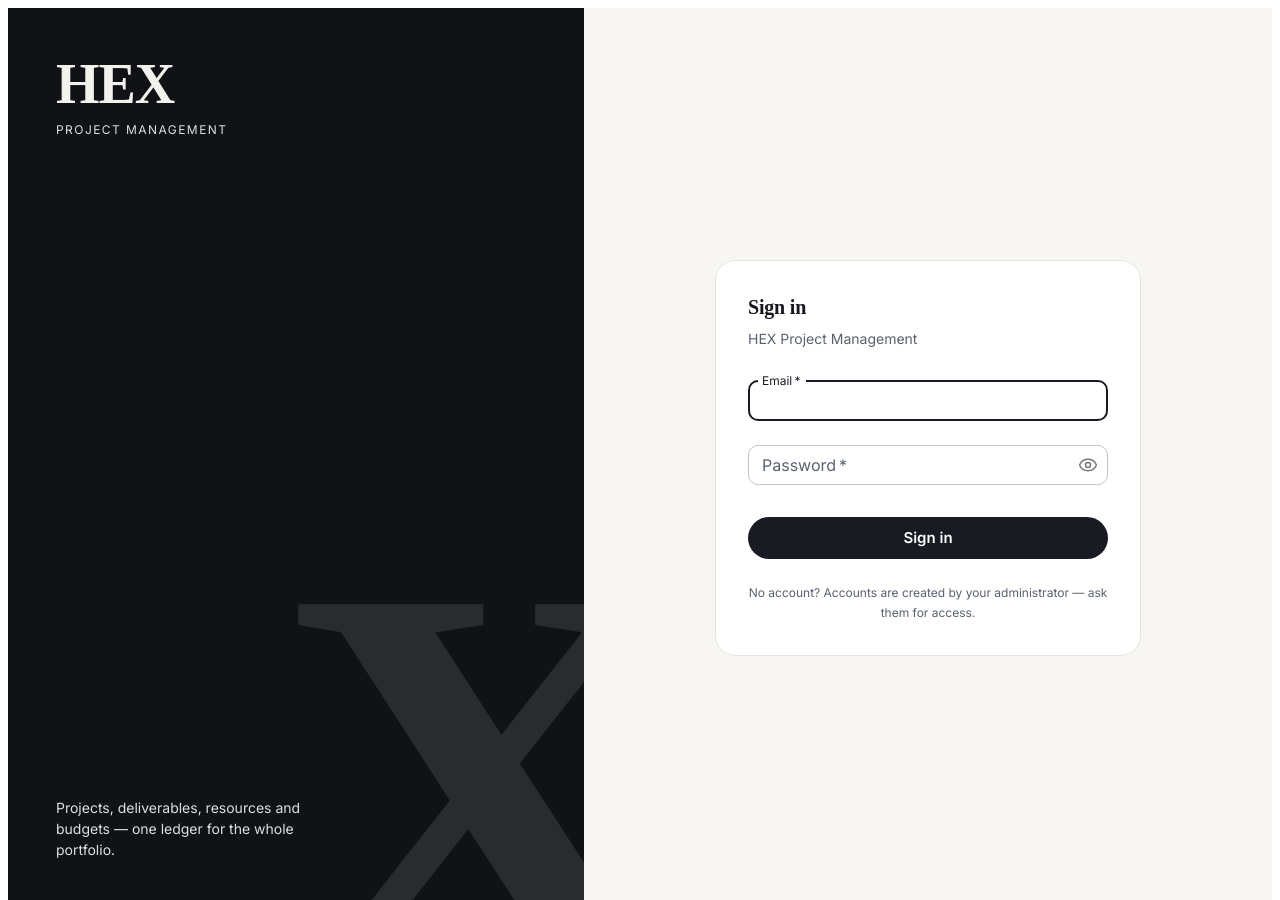
it: Login page › shows the error message in an Alert and does not navigate when login is rejected
Type "user@example.com" into the field labelled "Email *".
click(928, 401); type("user@example.com")  # box x1=748 y1=381 x2=1108 y2=421
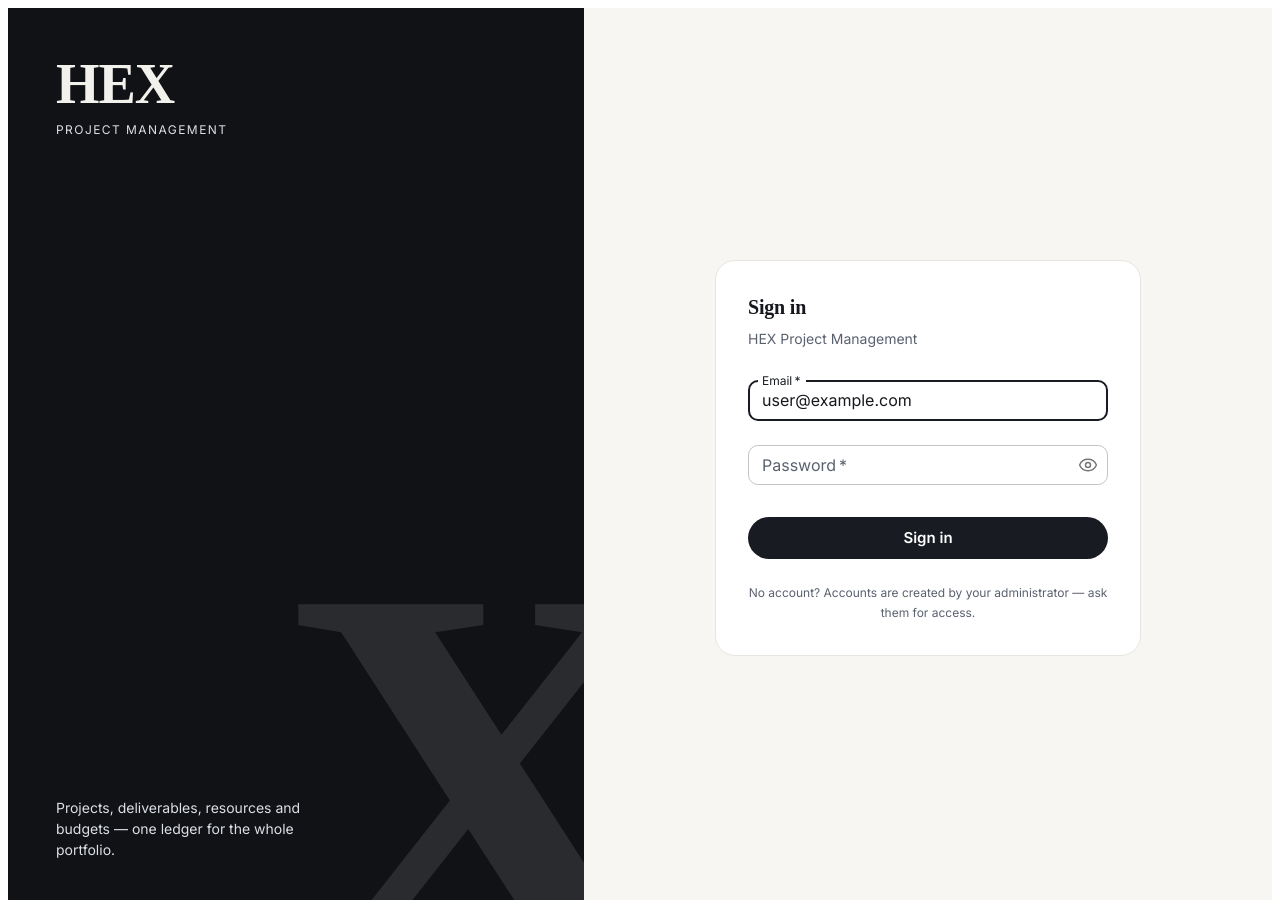
Type "wrongpass" into the password field labelled "Password *".
click(905, 465); type("wrongpass")  # box x1=748 y1=445 x2=1062 y2=485
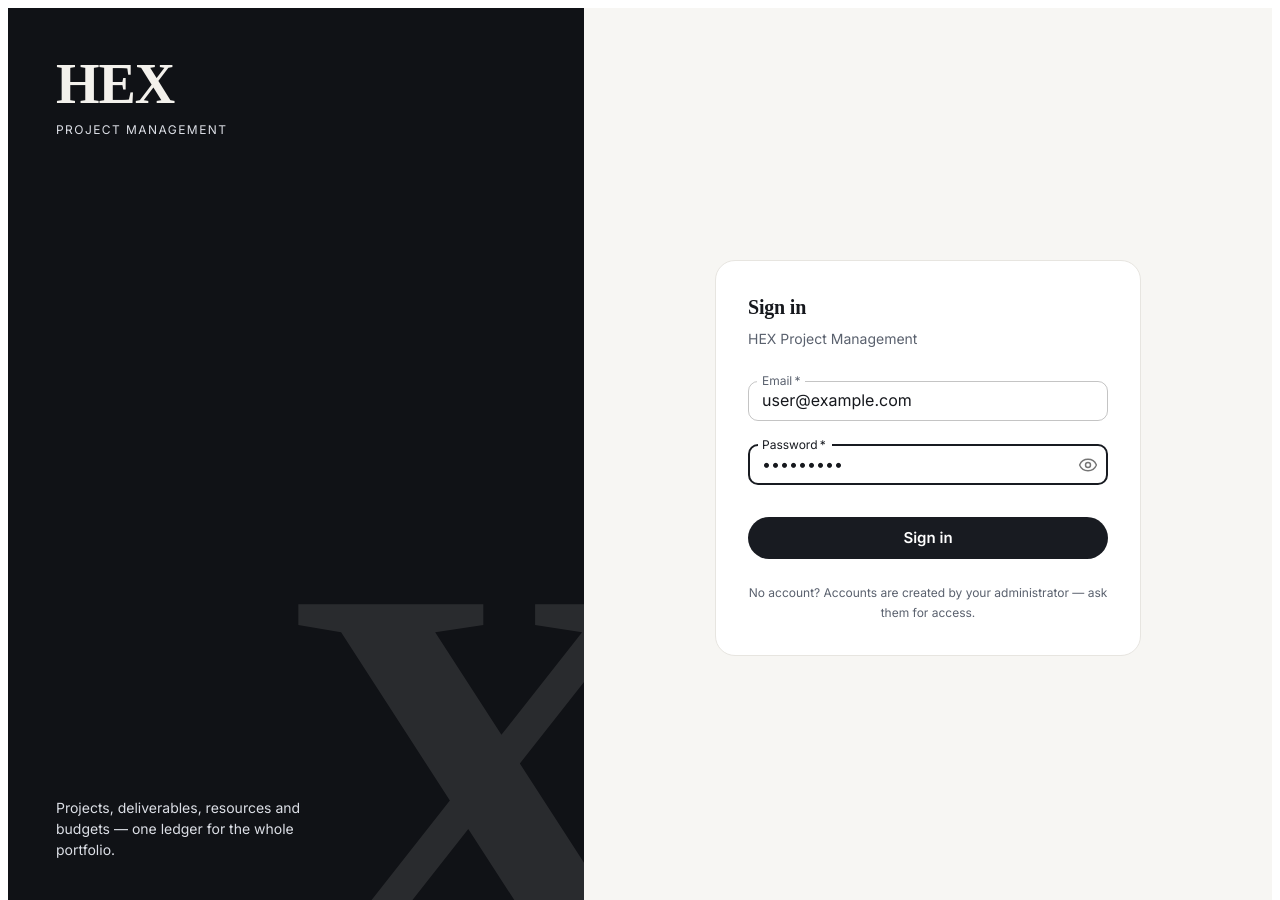
Click the button "Sign in".
click(928, 538)  # box x1=748 y1=517 x2=1108 y2=559
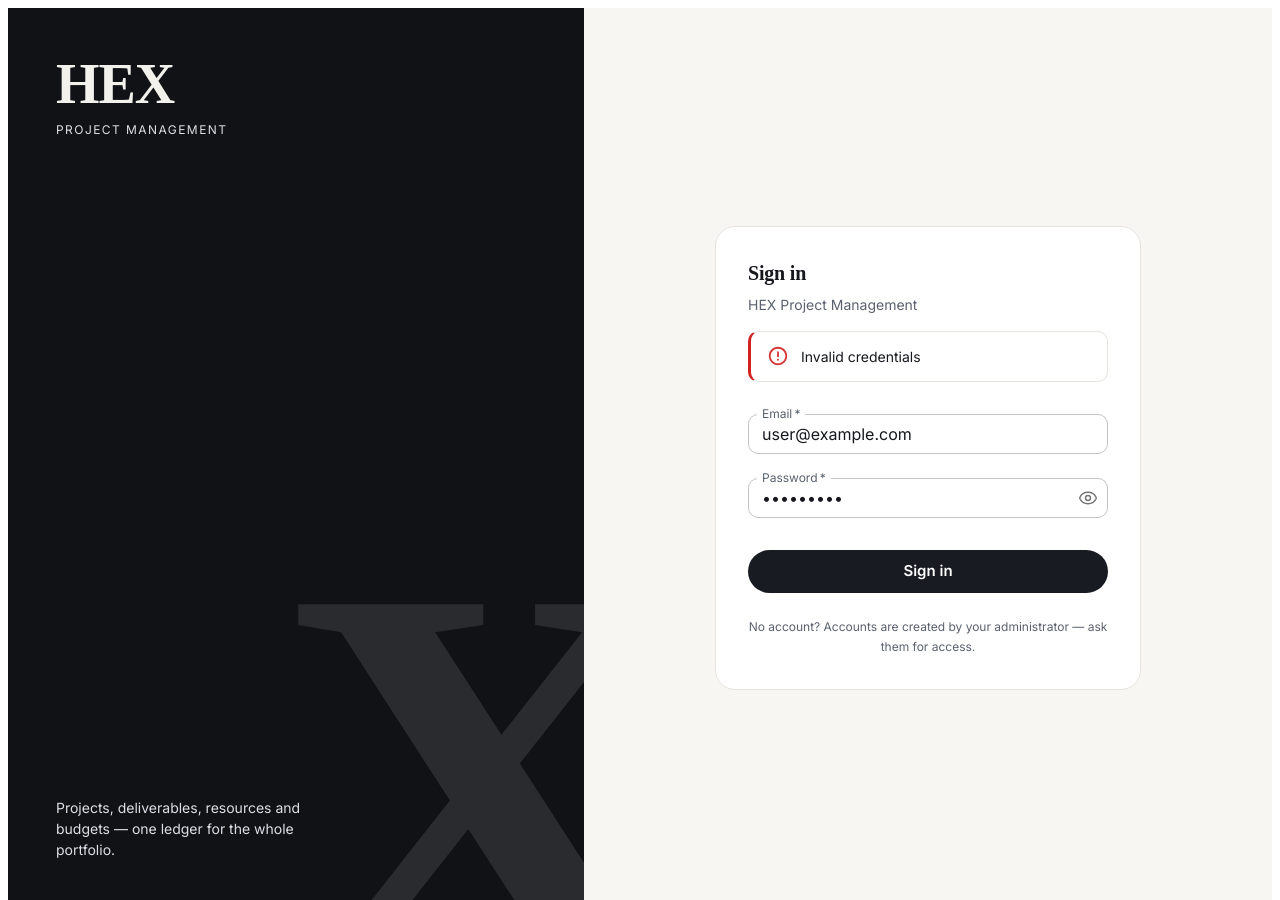
Expected: the text "Invalid credentials" is shown, x1=801 y1=348 x2=921 y2=366
